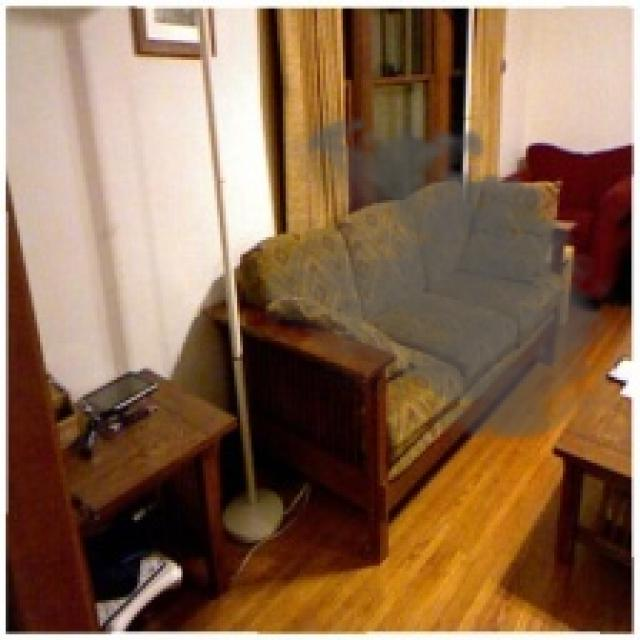smoke: (266, 106, 626, 448)
